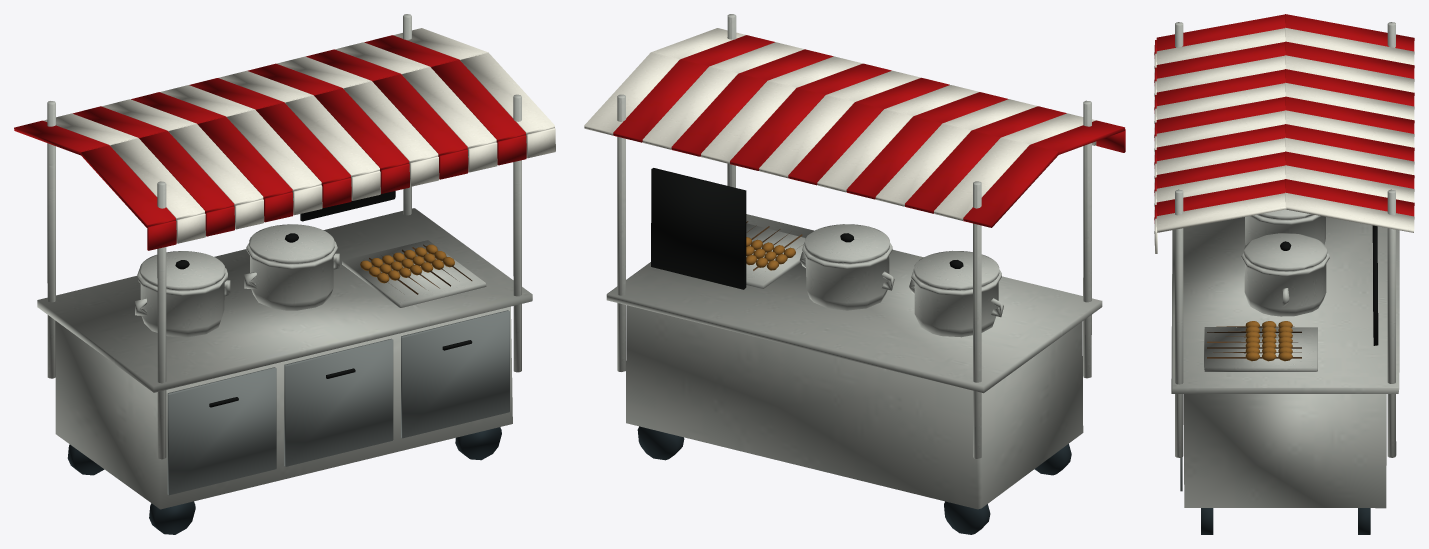
File: stall.glb
3 renders of one model, left to right at view 1: azimuth 30°, elevation 25°; view 2: azimuth 150°, elevation 25°; view 3: azimuth 270°, elevation 25°, orthographic. The views are drawn at different scales.
Visible parts, largest first — view 1: Counter rolled lip, Steel cabinet, Inset door, Inset door.001, Inset door.002, Stock pot.001, Skewer tray, Stock pot, Striped canopy panel, Striped canopy panel.024, Striped canopy panel.004, Striped canopy panel.012 (+46 smaller); view 2: Steel cabinet, Counter rolled lip, Menu board, Stock pot.001, Stock pot, Striped canopy panel.001, Striped canopy panel.009, Striped canopy panel.023, Striped canopy panel.007, Striped canopy panel.025, Striped canopy panel.011, Striped canopy panel.013 (+29 smaller); view 3: Counter rolled lip, Steel cabinet, Skewer tray, Stock pot.001, Pot lid.001, Striped canopy panel.027, Striped canopy panel.026, Canopy post.003, Canopy post.002, Striped canopy panel.009, Striped canopy panel.015, Striped canopy panel.021 (+28 smaller).
Part boxes in pixels (box(x1,y1,x2,y2)): Counter rolled lip: box(37, 208, 532, 392); Steel cabinet: box(55, 306, 512, 509); Inset door: box(167, 367, 276, 495); Inset door.001: box(284, 338, 393, 466); Inset door.002: box(401, 310, 509, 438); Stock pot.001: box(246, 241, 337, 310); Skewer tray: box(342, 240, 486, 307); Stock pot: box(137, 268, 227, 337); Striped canopy panel: box(81, 145, 175, 227); Striped canopy panel.024: box(431, 59, 525, 142); Striped canopy panel.004: box(139, 130, 234, 213); Striped canopy panel.012: box(256, 102, 350, 184); Steel cabinet: box(626, 305, 1083, 509); Counter rolled lip: box(606, 214, 1102, 393); Menu board: box(651, 168, 746, 289); Stock pot.001: box(802, 242, 892, 310); Stock pot: box(911, 269, 1001, 337); Striped canopy panel.001: box(963, 144, 1058, 227); Striped canopy panel.009: box(846, 116, 941, 199); Striped canopy panel.023: box(642, 66, 737, 149); Striped canopy panel.007: box(875, 123, 971, 206); Striped canopy panel.025: box(613, 59, 708, 142); Striped canopy panel.011: box(817, 109, 912, 192); Striped canopy panel.013: box(788, 102, 883, 185); Counter rolled lip: box(1171, 217, 1399, 393); Steel cabinet: box(1183, 394, 1386, 508); Skewer tray: box(1204, 327, 1317, 371); Stock pot.001: box(1241, 251, 1329, 316); Pot lid.001: box(1244, 233, 1327, 271); Striped canopy panel.027: box(1285, 192, 1414, 232); Striped canopy panel.026: box(1156, 193, 1286, 232); Canopy post.003: box(1387, 189, 1396, 457); Canopy post.002: box(1175, 189, 1183, 457); Striped canopy panel.009: box(1285, 69, 1414, 106); Striped canopy panel.015: box(1285, 110, 1414, 147); Striped canopy panel.021: box(1285, 151, 1414, 188).
Size of the model in its own units: 2.8 by 2.4 by 1.6.
Materials: 1 (1 with a texture image).
